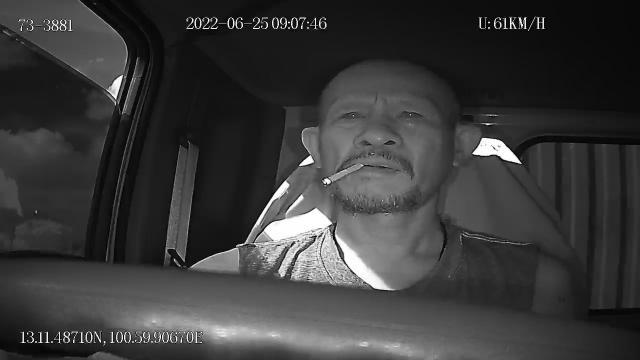SafeDriving: (390, 99, 430, 130), (330, 101, 370, 128)
Smoking: (322, 162, 364, 185)
